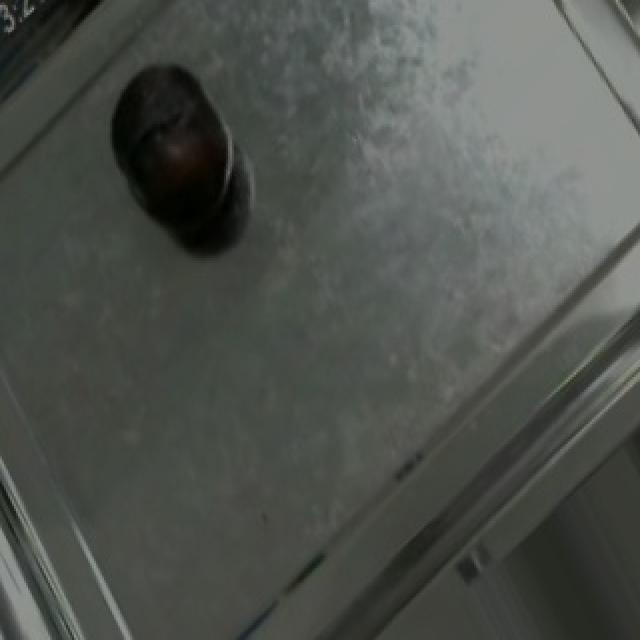Fruit: (90, 42, 252, 248)
